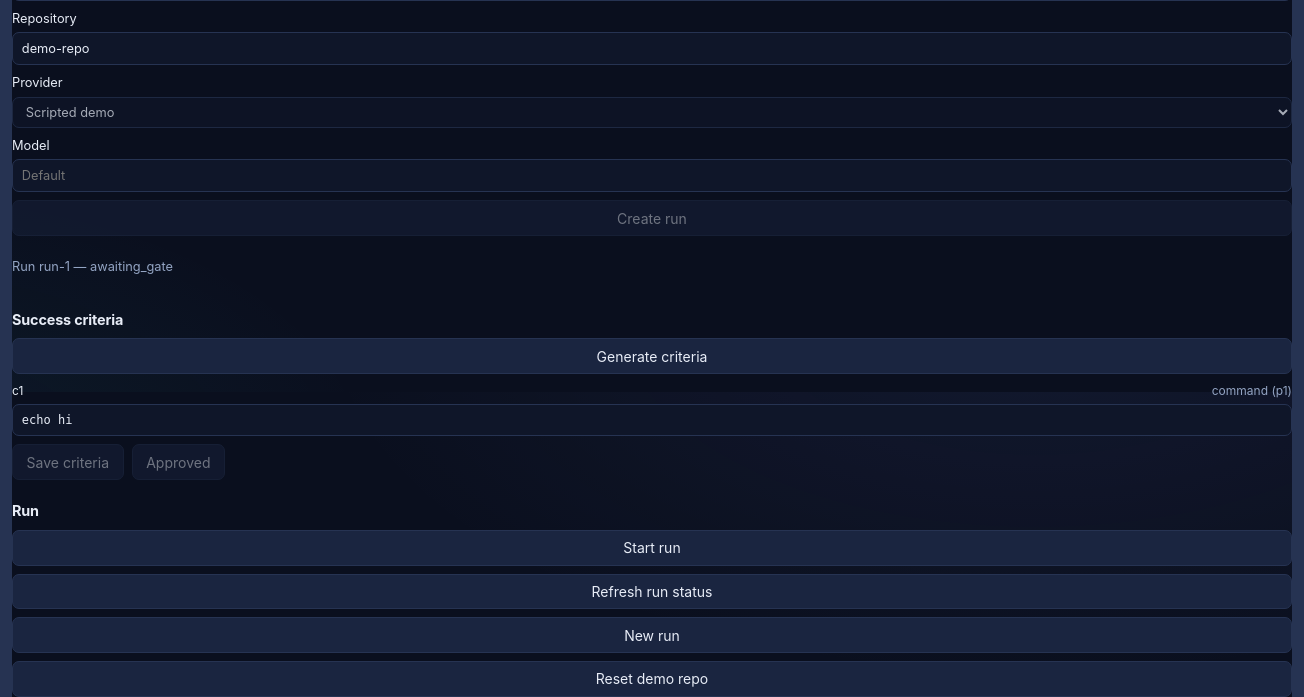
it: InspectorPanel › preserves a structured clarification returned when starting
(page scrolled)
Click the button "Start run": [652, 548] box [12,530,1292,566]
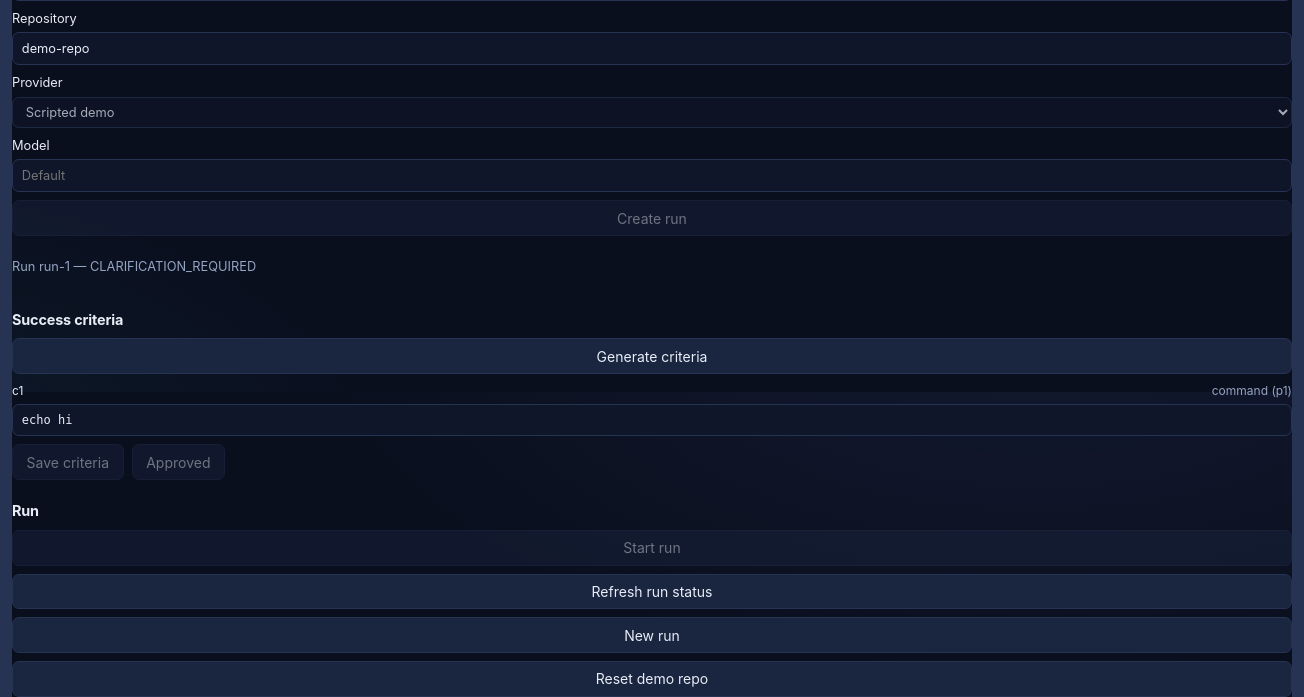
expect the button "Start run" is disabled: met, box [12,530,1292,566]
